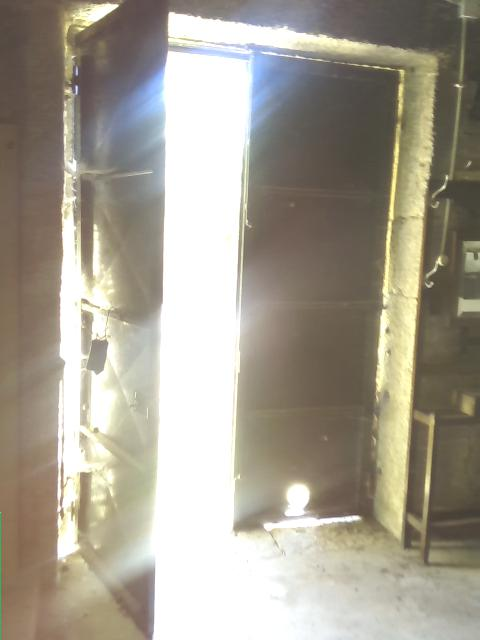semi_door: (60, 1, 444, 639)
